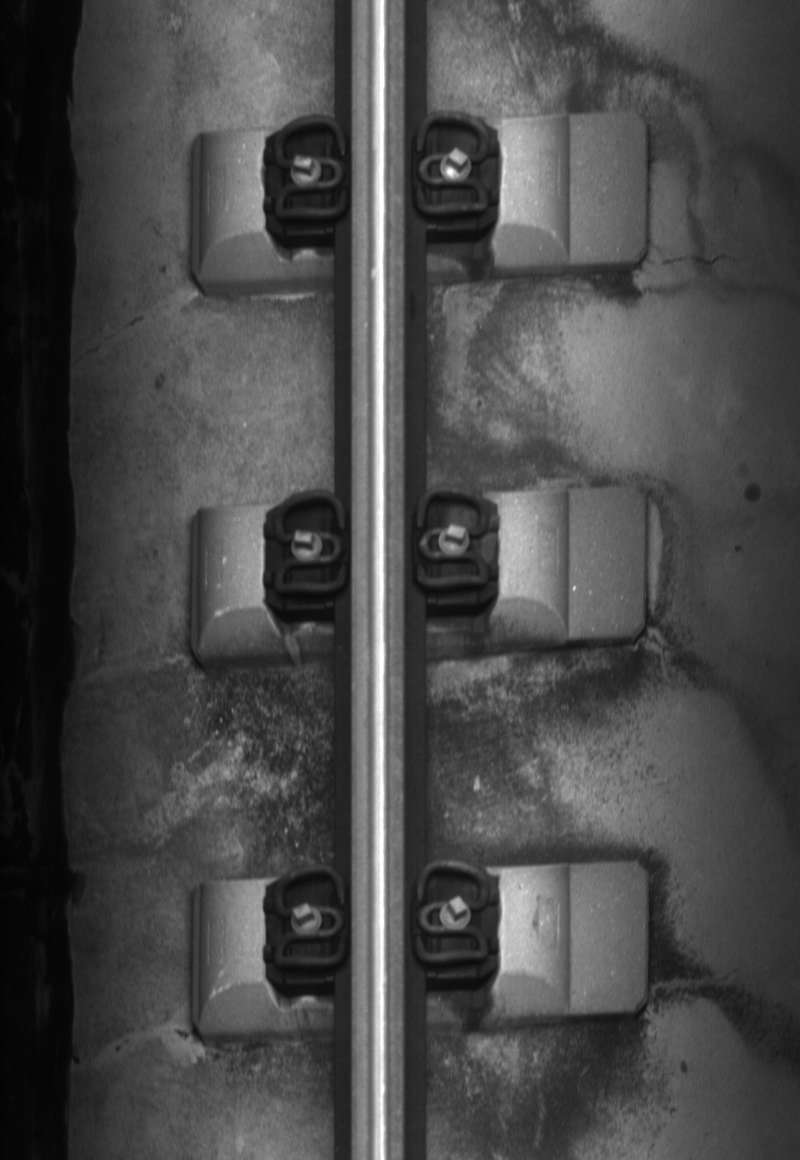l_faster: (267, 111, 352, 225), (268, 486, 352, 599), (269, 861, 352, 970)
r_faster: (409, 481, 494, 597), (409, 853, 493, 970), (412, 110, 493, 221)
